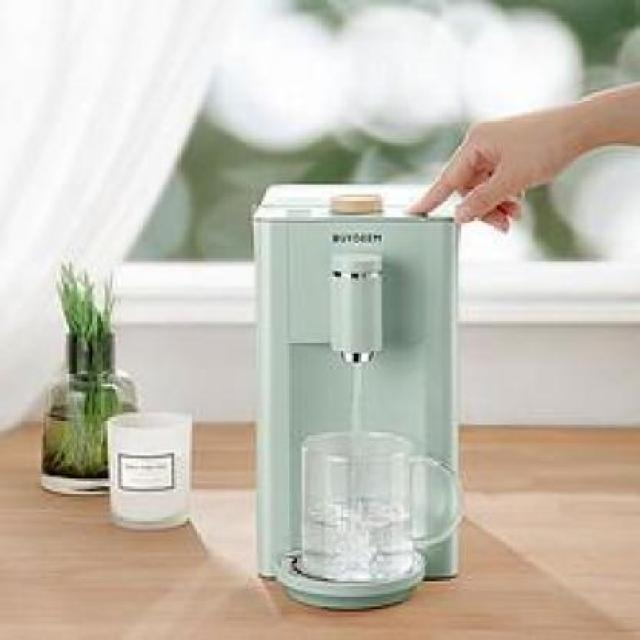cooler: (255, 181, 467, 614)
